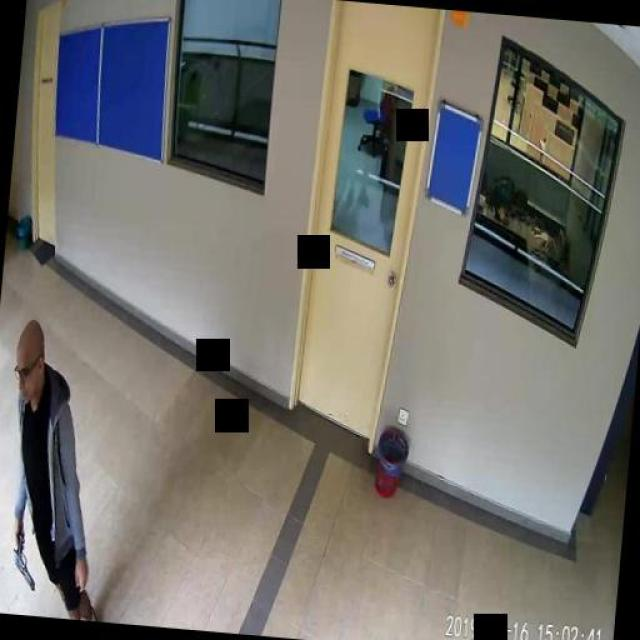gun: (8, 528, 38, 586)
